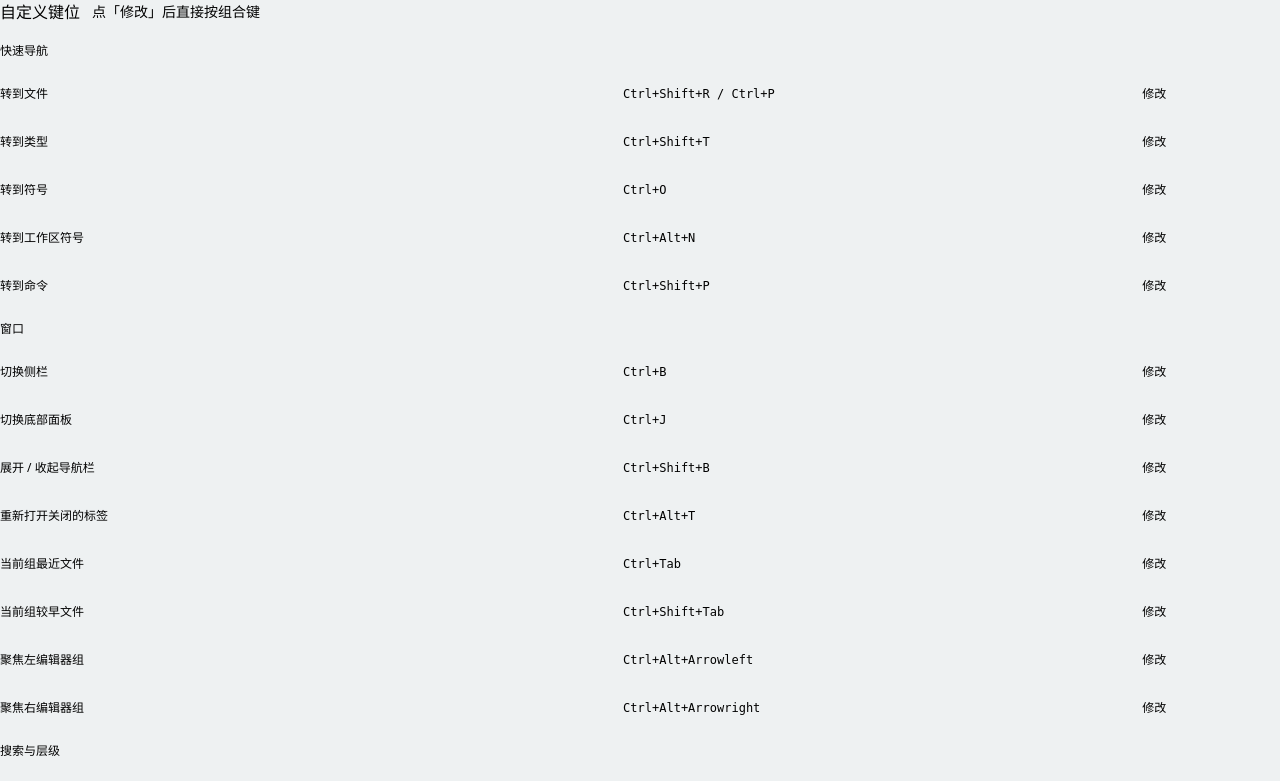
Test: 键位采集与跳转请求 › 采集态打开全部恢复默认先退出采集，确认框键盘可达
Click the button "修改" in the row of "转到文件" at (1154, 94), box [1132,80,1176,108]
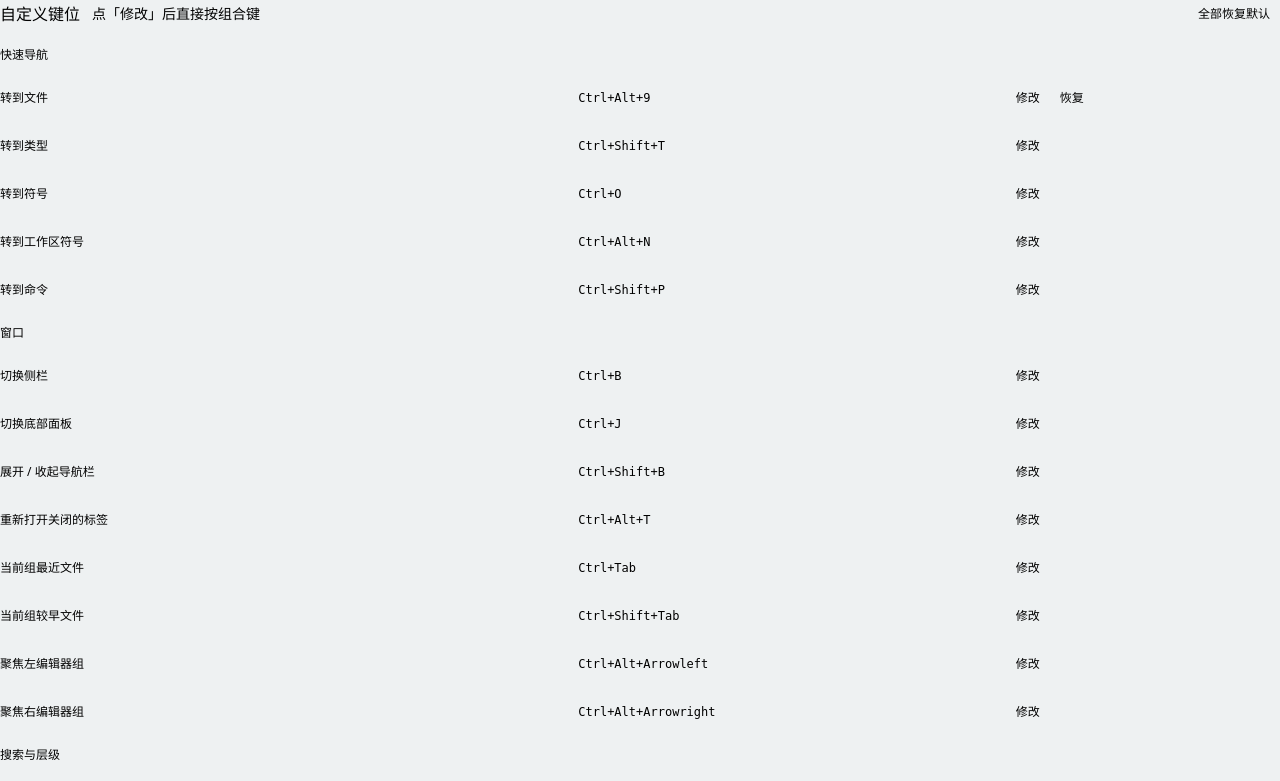
Expected: the button "全部恢复默认" is shown, [1188,0,1279,28]
Click the button "修改" in the row of "转到文件" at (1028, 98), box [1006,84,1050,112]
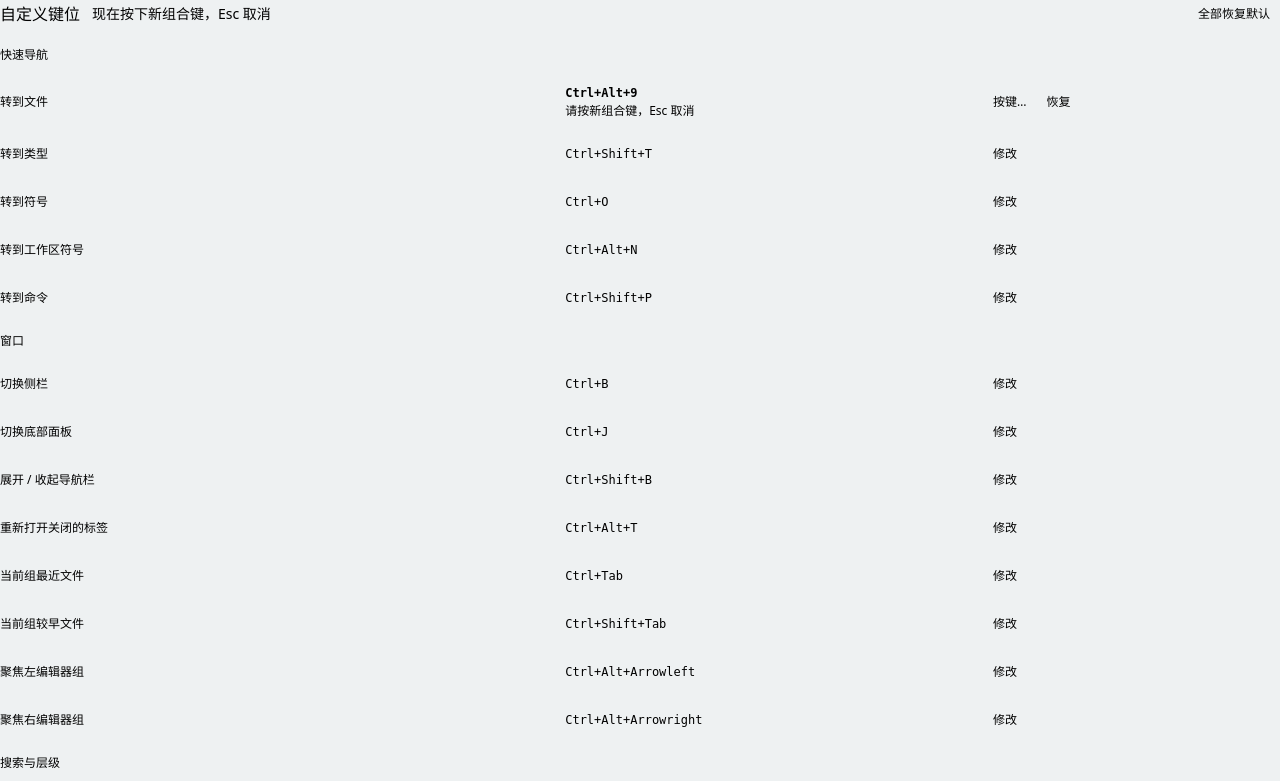
Expected: the row "转到文件 Ctrl+Alt+9 请按新组合键，Esc 取消 按键… 恢复" is shown, [0,74,1279,130]
Click the button "全部恢复默认" at (1234, 14), box [1188,0,1279,28]
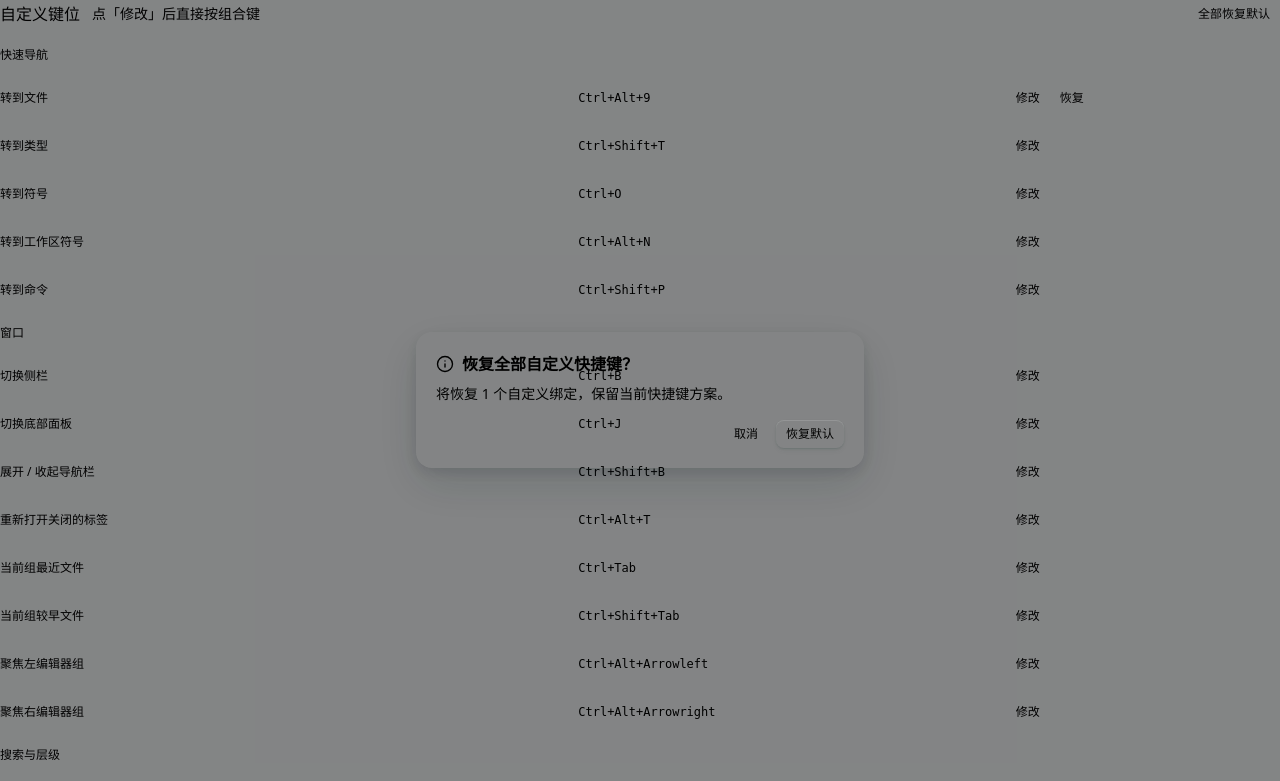
Expected: the dialog is shown, [416,332,864,468]
Click the button "恢复默认" at (810, 434), box [776,420,844,448]
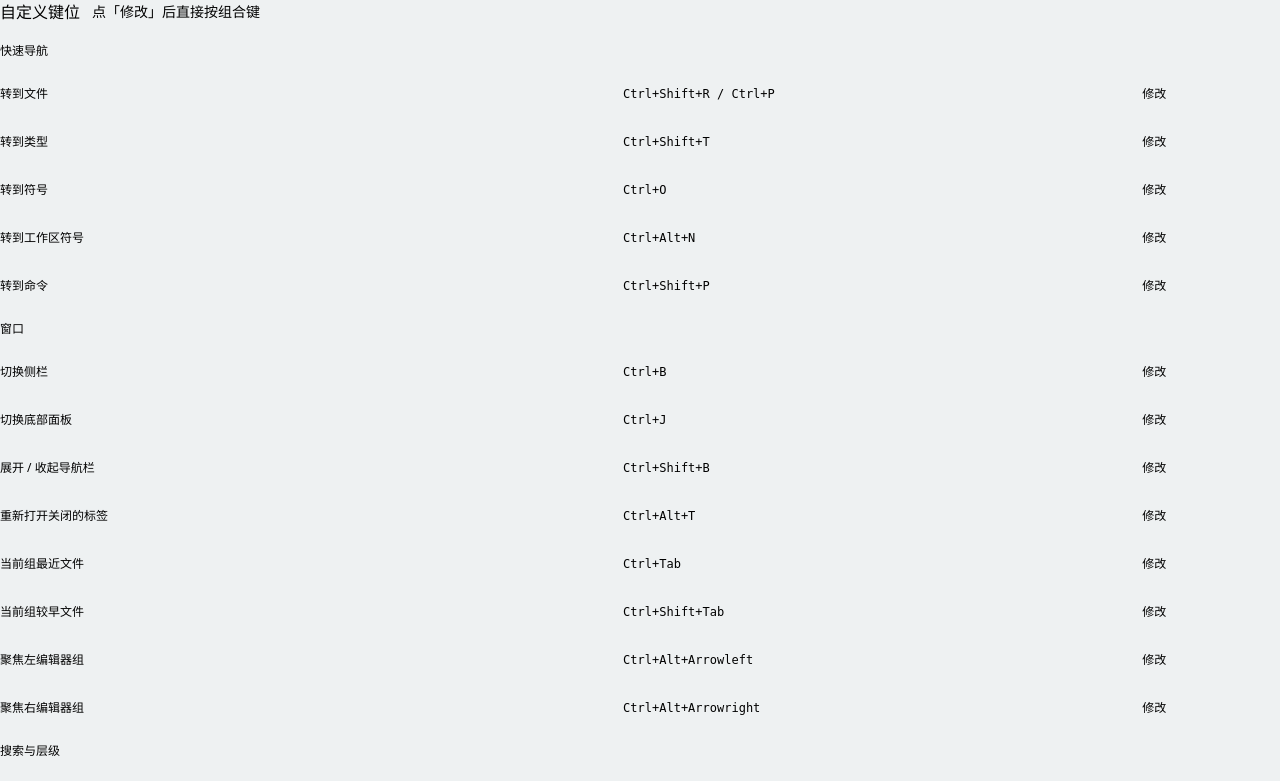
Expected: the text "全部恢复默认" is gone
